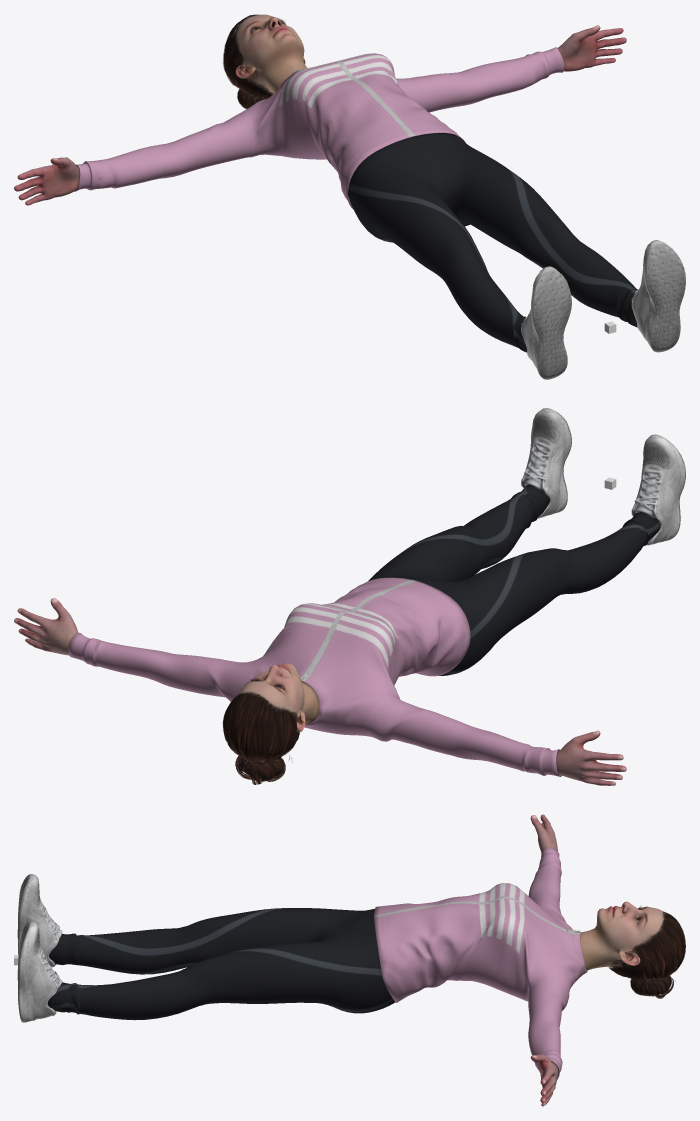
3 renders of one model, top to bottom at view 1: azimuth 30°, elevation 25°; view 2: azimuth 150°, elevation 25°; view 3: azimuth 270°, elevation 25°, orthographic. The views are drawn at different scales.
Visible parts, largest first — view 1: Ch37_Pants, Ch37_Body, Ch37_Eyeleashes; view 2: Ch37_Pants, Ch37_Body, Ch37_Eyeleashes; view 3: Ch37_Pants, Ch37_Body, Ch37_Eyeleashes.
Boxes of the visible parts, box(x1,y1,x2,y2) form: Ch37_Pants: box(74, 47, 685, 379); Ch37_Body: box(14, 14, 626, 205); Ch37_Eyeleashes: box(223, 14, 284, 108); Ch37_Pants: box(68, 408, 685, 776); Ch37_Body: box(14, 598, 626, 785); Ch37_Eyeleashes: box(223, 678, 303, 784); Ch37_Pants: box(17, 847, 587, 1079); Ch37_Body: box(530, 814, 665, 1106); Ch37_Eyeleashes: box(608, 906, 685, 998).
Bounding box in the file's own units: 167 × 29.17 × 175.
3 materials, 2 textured.
